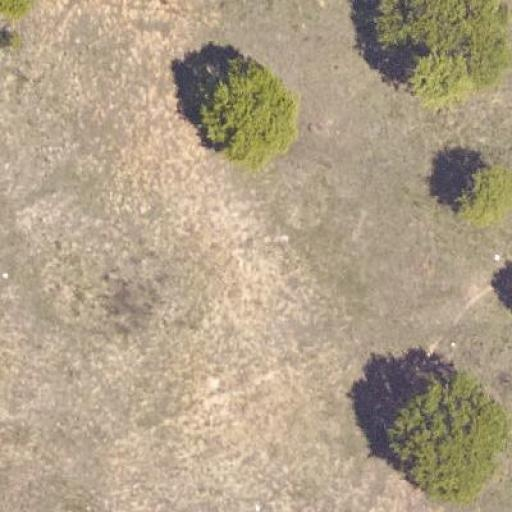tree-top: (379, 368, 511, 500), (193, 56, 302, 164), (367, 0, 512, 73), (409, 50, 477, 110), (453, 159, 511, 229), (0, 0, 34, 22)
